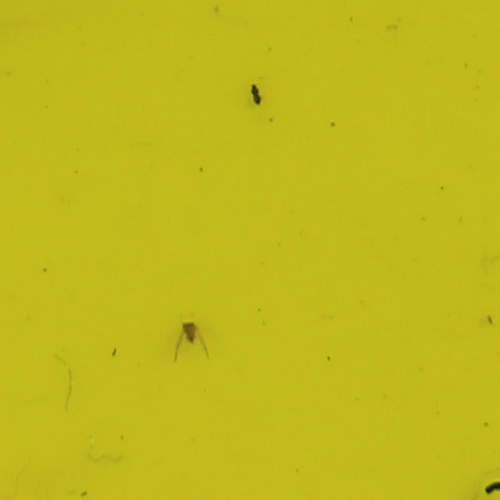psylla: (176, 317, 202, 344)
